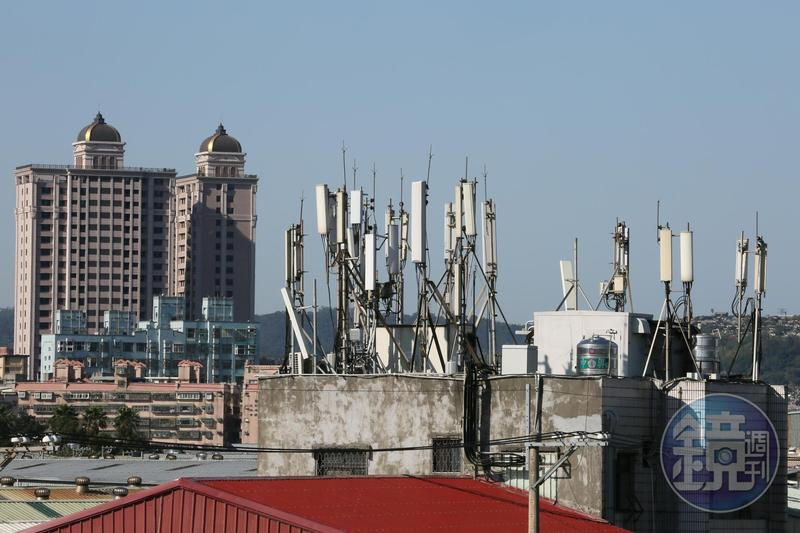a: (279, 285, 317, 363), (477, 196, 503, 275), (409, 178, 430, 266), (555, 255, 580, 315), (440, 197, 459, 266), (752, 234, 772, 297), (458, 176, 478, 237), (656, 225, 675, 285), (362, 232, 380, 293), (678, 228, 696, 287), (312, 179, 330, 236), (732, 233, 750, 286), (387, 218, 402, 277), (335, 188, 347, 248), (349, 186, 364, 226)
